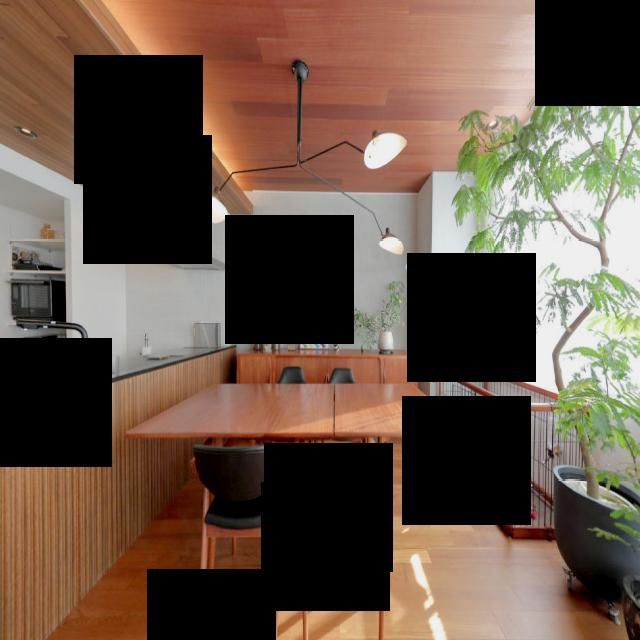natural chair: (193, 446, 290, 640), (299, 447, 393, 640)
natural desk: (122, 384, 468, 444)
